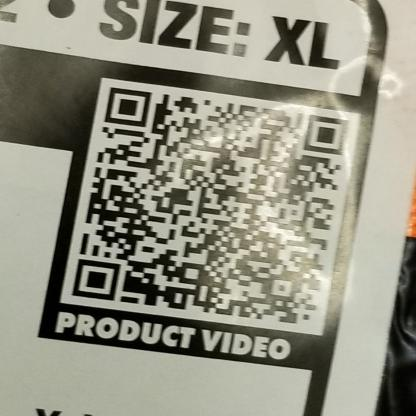qr: (64, 81, 352, 334)
